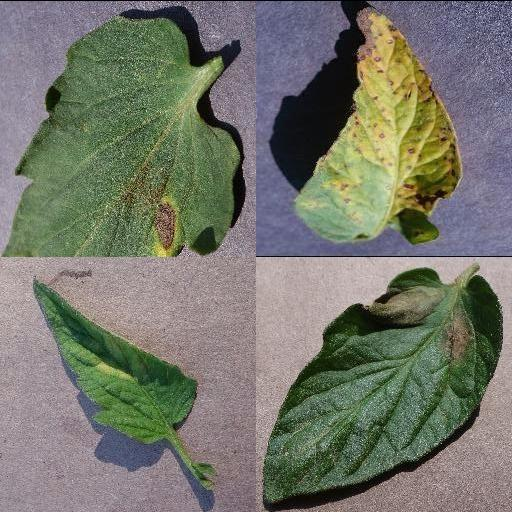Early Blight: (3, 16, 240, 256)
Late Blight: (260, 265, 504, 505)
Leaf Mold: (32, 276, 198, 444)
Septoria: (293, 6, 462, 242)
